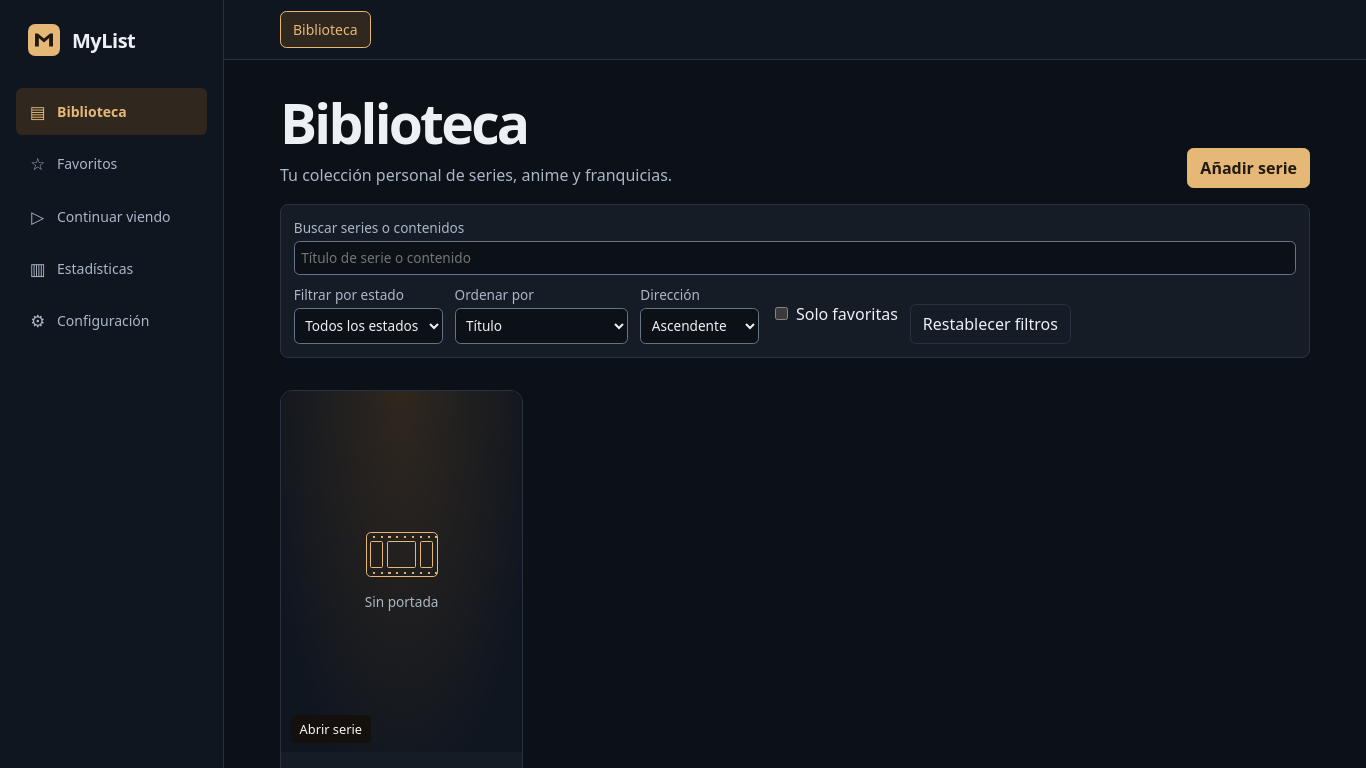
Test: MyList › opens the content detail inside its series tab and restores the filter, focus and scroll
The width and height of the screenshot is (1366, 768).
(page scrolled)
Click the button "Abrir serie". click: (402, 571)
box: [281,391,522,752]
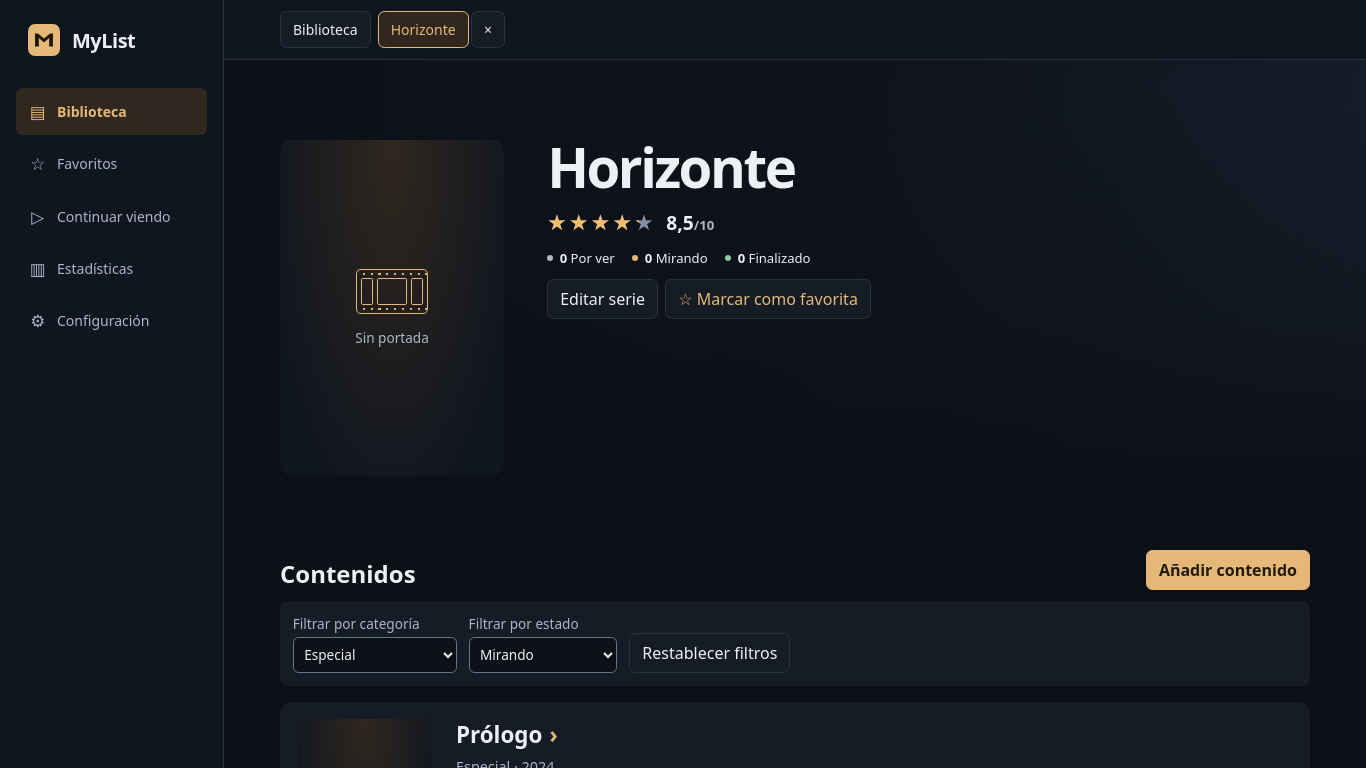
Click the button with aria-label "Ver detalle de Prólogo". click: (507, 735)
box: [456,719,558,750]
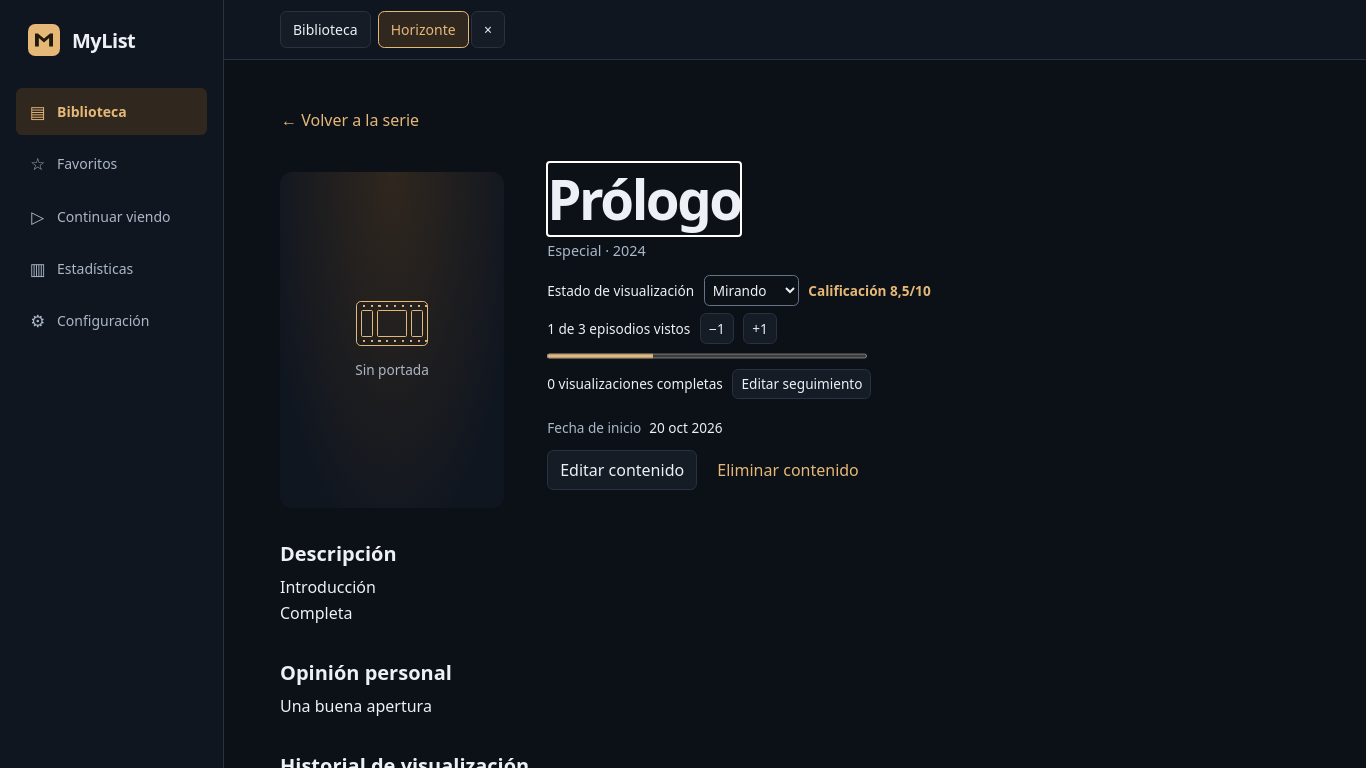
expect the number of buttons "Horizonte" is 1: met, box [378,11,469,48]
expect the text "Especial · 2024" is shown: met, box [547,241,646,260]
expect the text "Una buena apertura" is shown: met, box [280,695,432,717]
Click the button "← Volver a la serie". click: (350, 120)
box: [280,100,420,140]
(page scrolled)
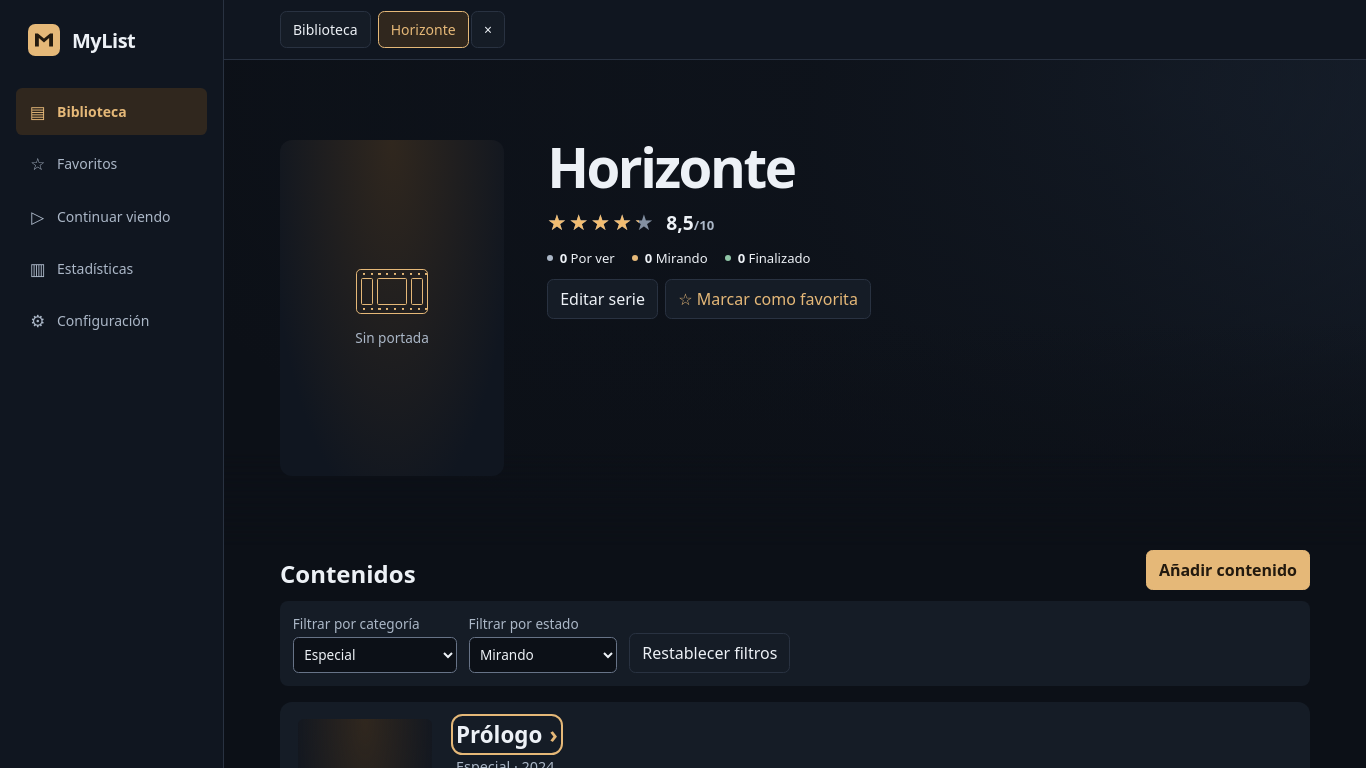
expect the dropdown labelled "Filtrar por categoría" shows "Especial": met, box [293,637,457,673]
expect the dropdown labelled "Filtrar por estado" shows "Mirando": met, box [469,637,617,673]
